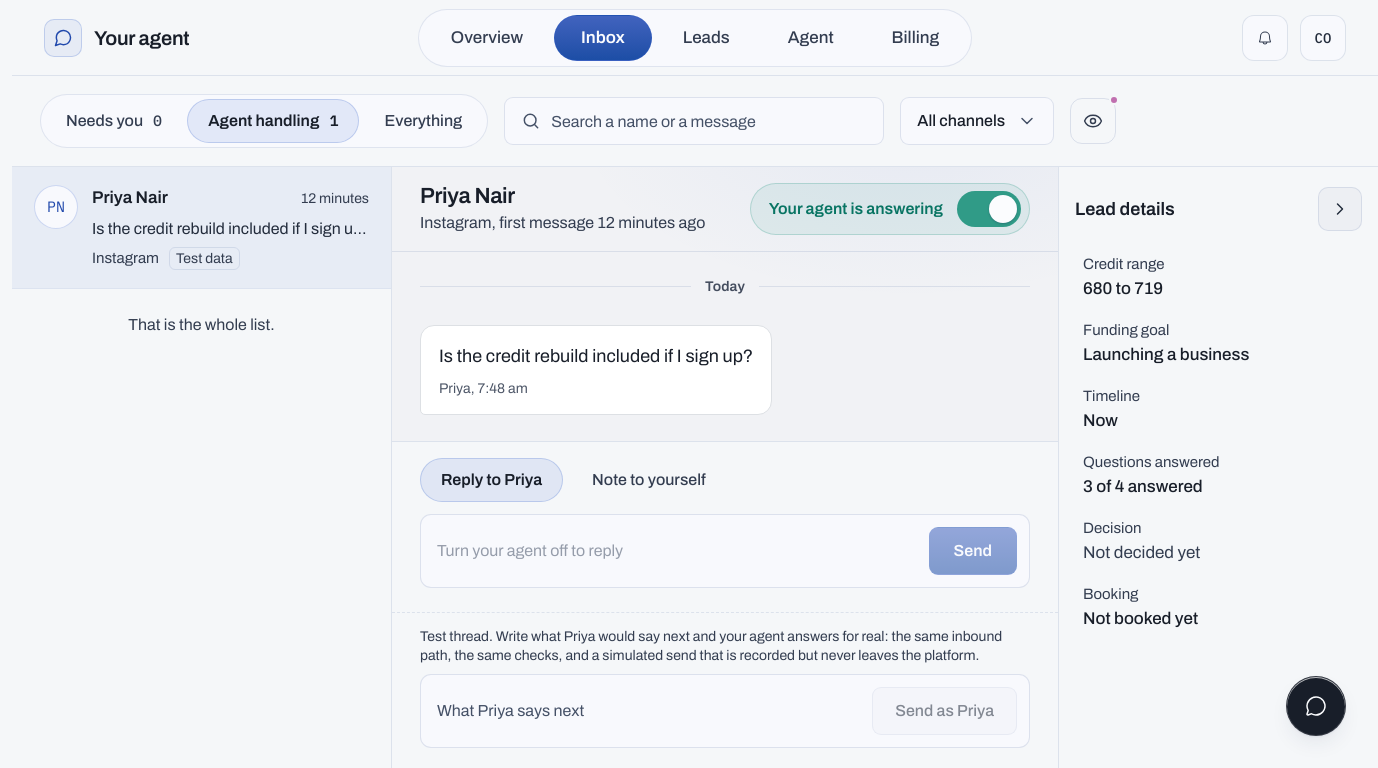
Test: CoachInbox rehearsal › clears the draft and key once the receipt is terminal, so the next line is a new turn
In the text box named "Send as Priya": (648, 711) [437,687,858,735], type "First line"
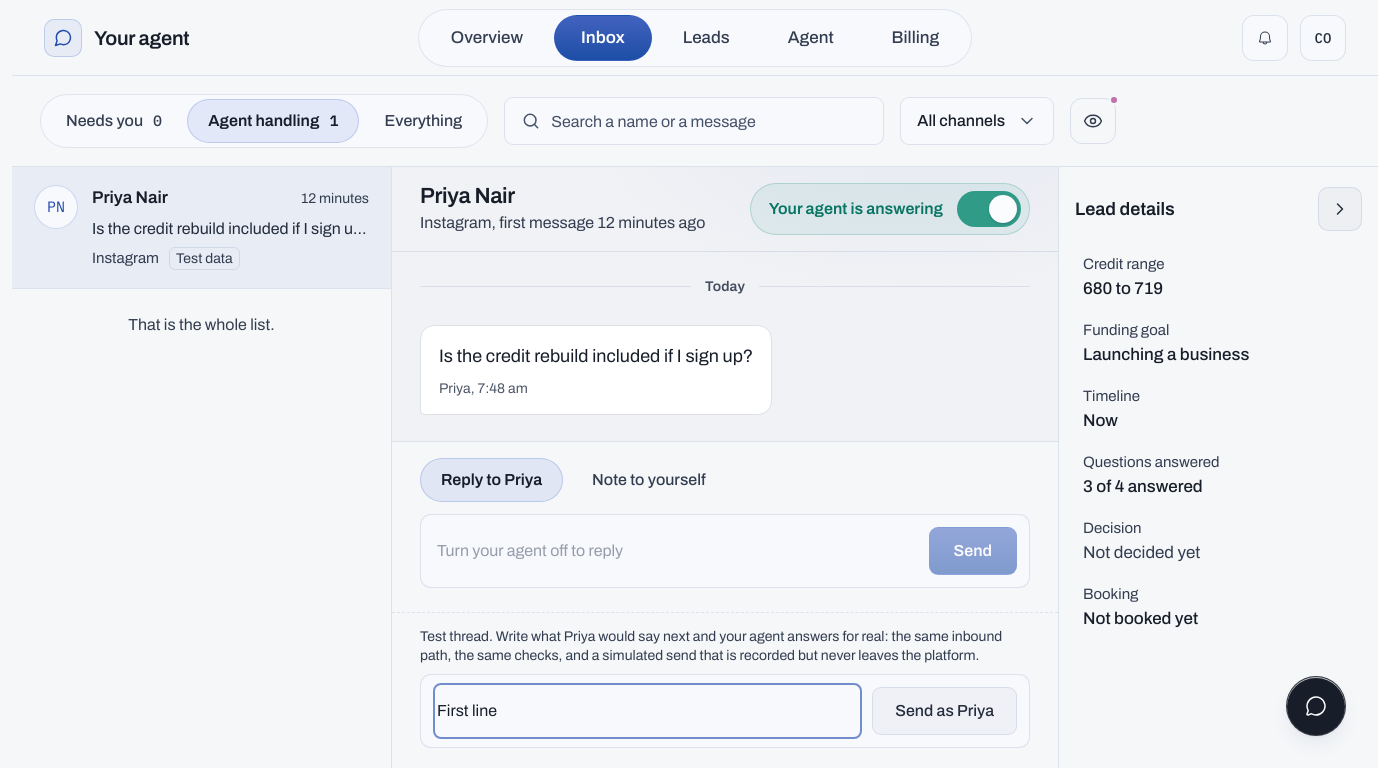
Click the button "Send as Priya": click(945, 711) [872,687,1017,735]
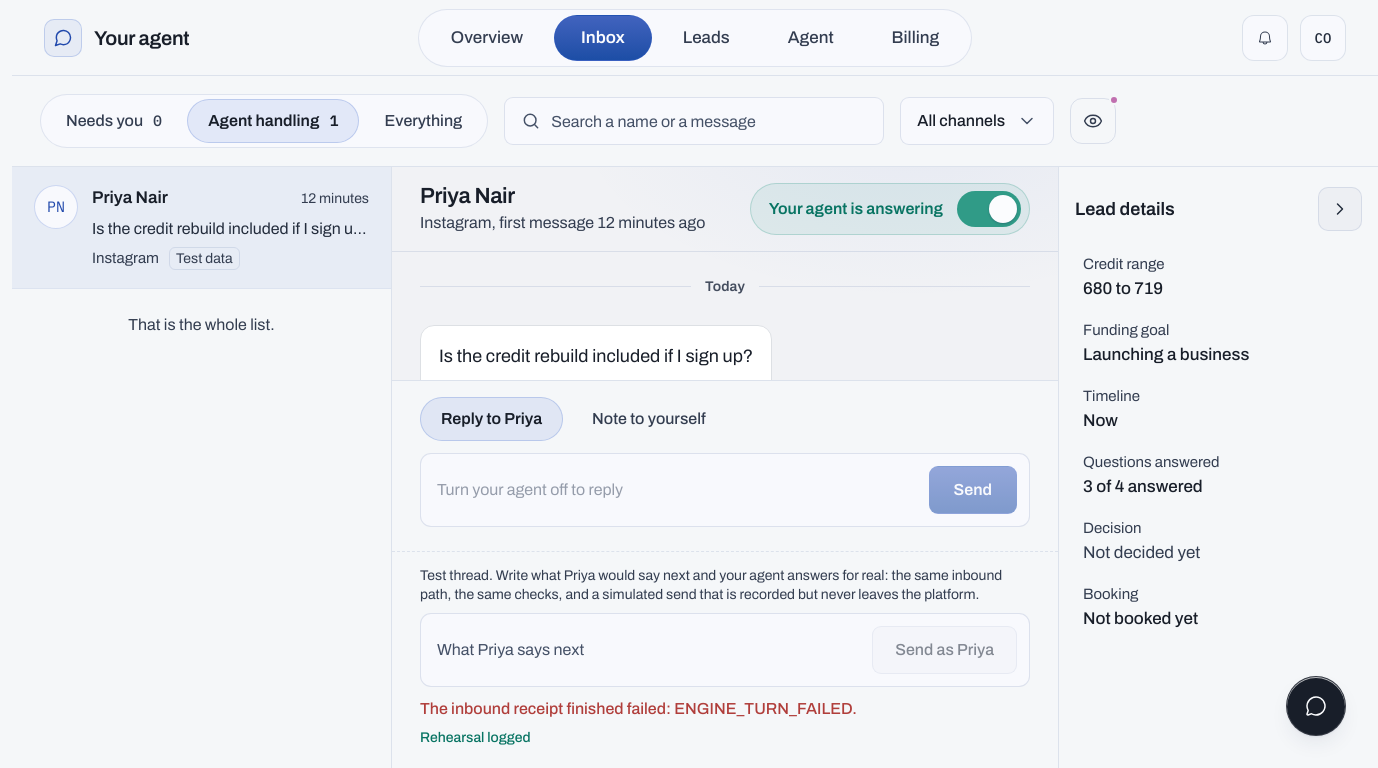
Result: the text "The inbound receipt finished failed: ENGINE_TURN_FAILED." is shown at [420,700,857,717]
Result: the text box named "Send as Priya" is empty
In the text box named "Send as Priya": (648, 650) [437,626,858,674], type "First line"
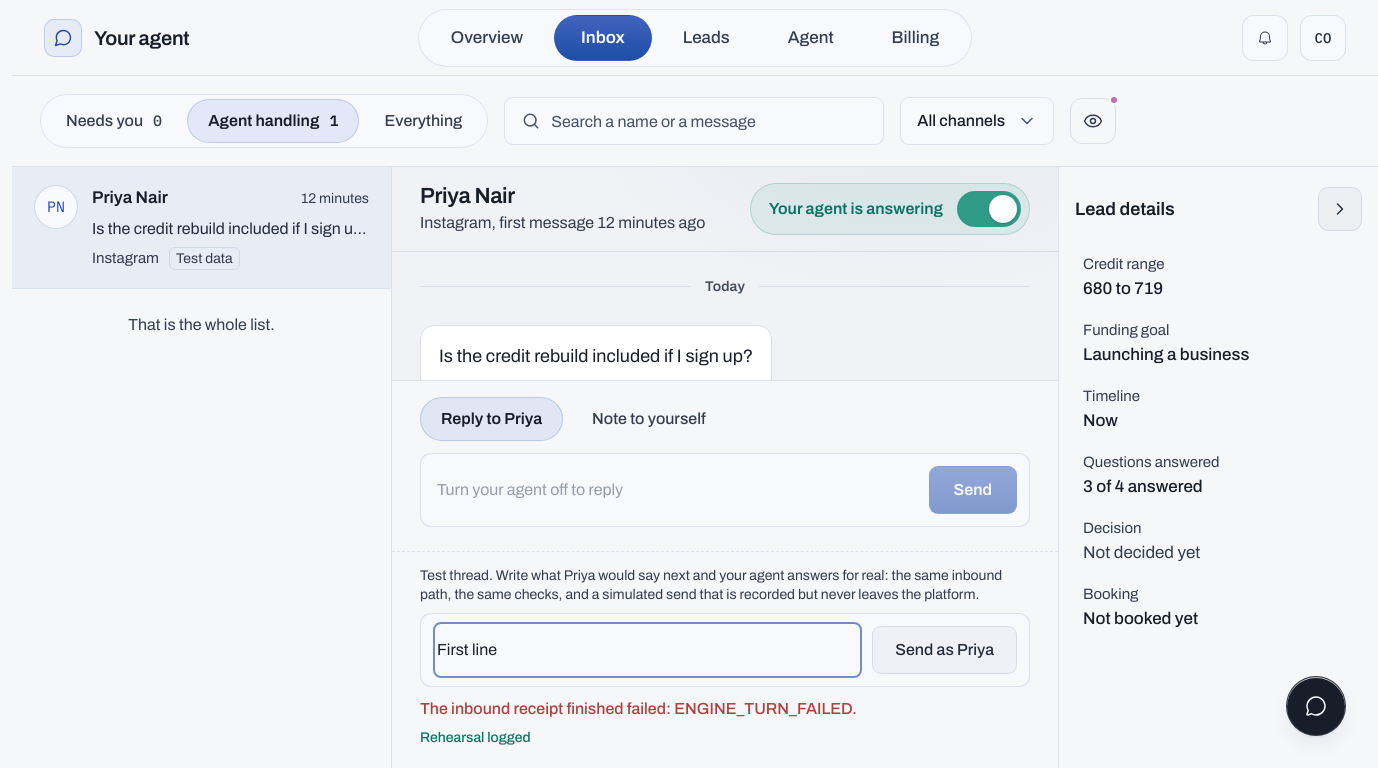
Click the button "Send as Priya": click(945, 650) [872,626,1017,674]
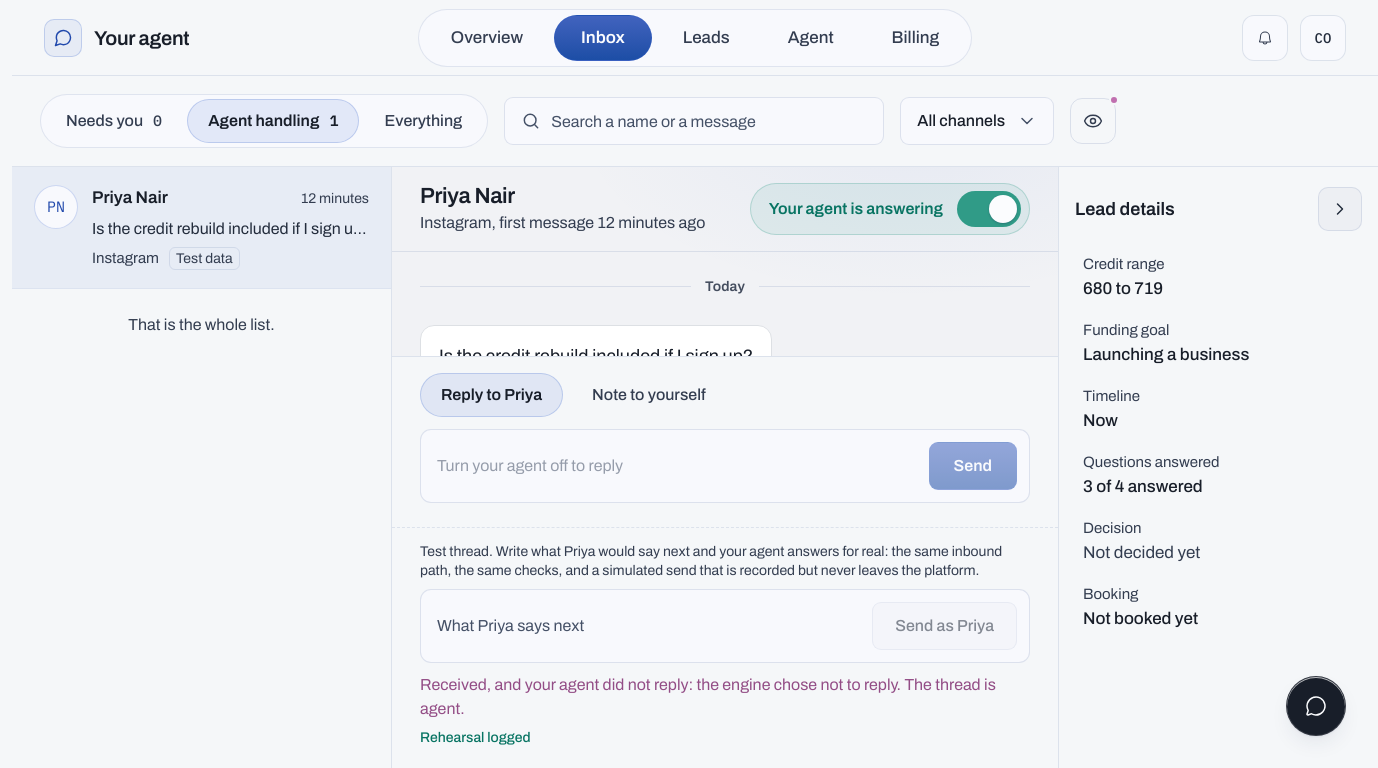
Result: the text "the engine chose not to reply" is shown at [420,676,996,717]
